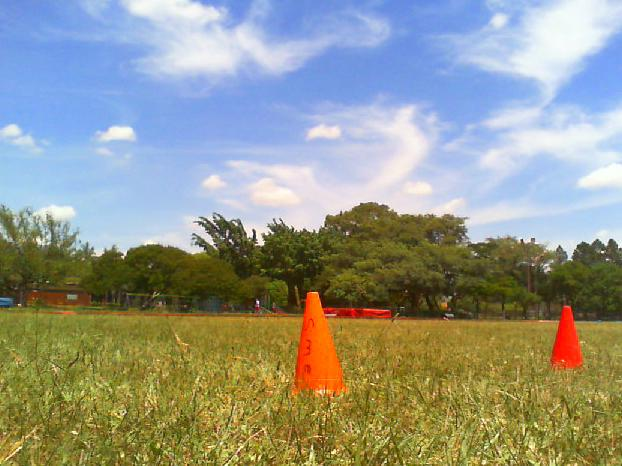0 cone: (293, 291, 346, 397), (550, 304, 583, 369)
